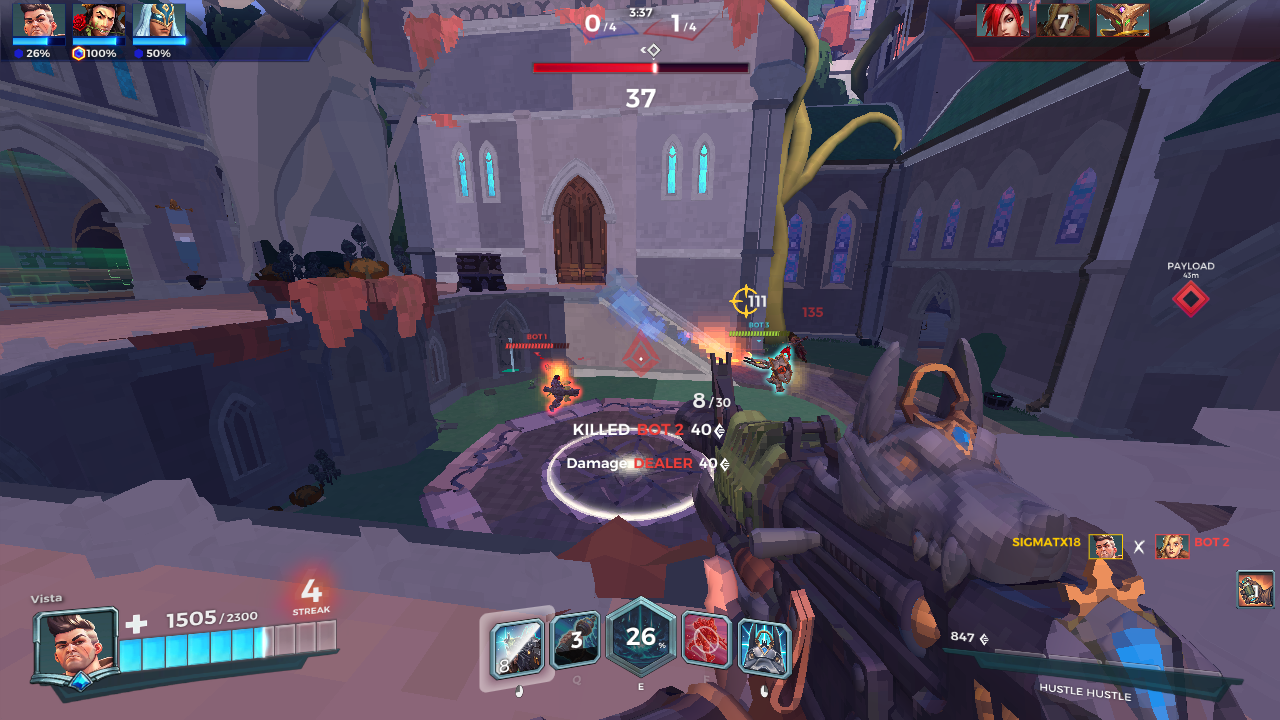model: (539, 372, 581, 416)
